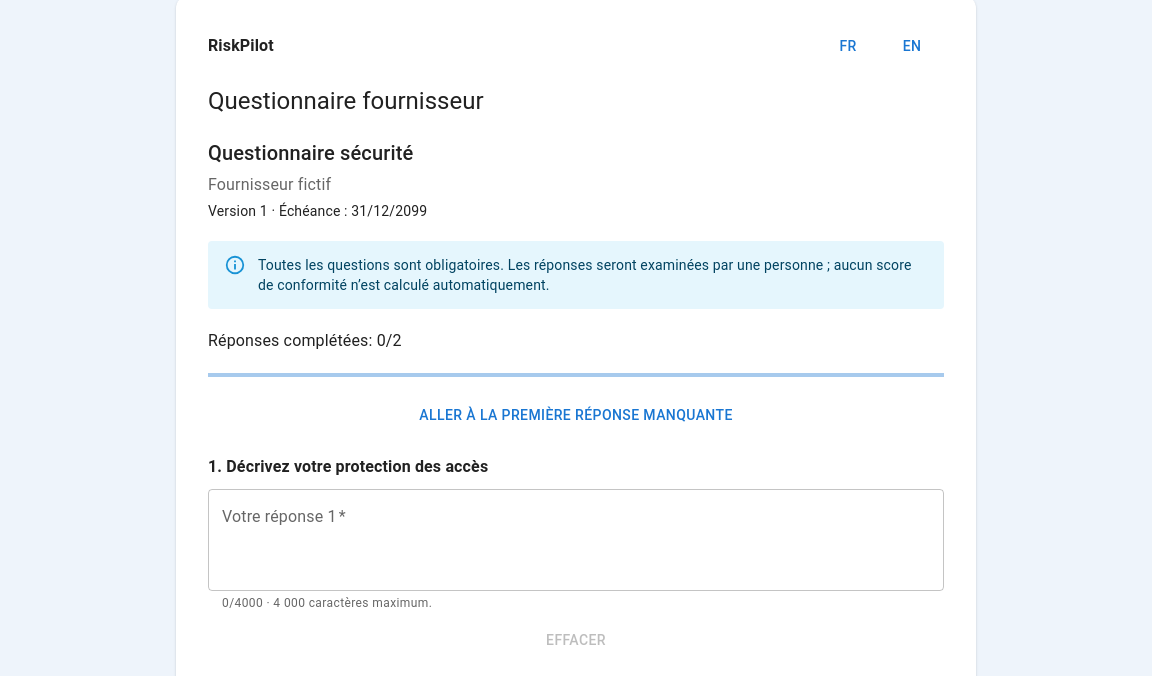
Test: PublicSupplierAssessmentPage › preserves entries after a failed submission and permits manual retry
Type "  Accès protégés par MFA.  " into the text box labelled "Votre réponse 1 *".
click(576, 540); type("  Accès protégés par MFA.  ")  # box x1=222 y1=506 x2=930 y2=575
(page scrolled)
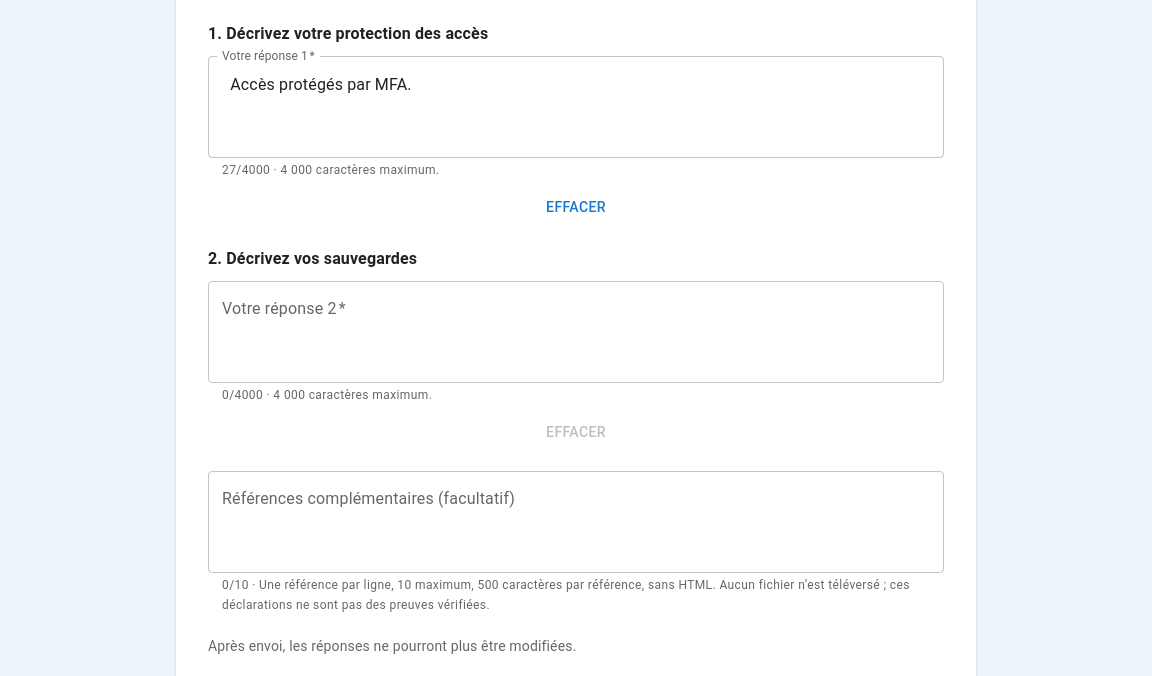
Type "Sauvegardes hors ligne." into the text box labelled "Votre réponse 2 *".
click(576, 332); type("Sauvegardes hors ligne.")  # box x1=222 y1=298 x2=930 y2=367
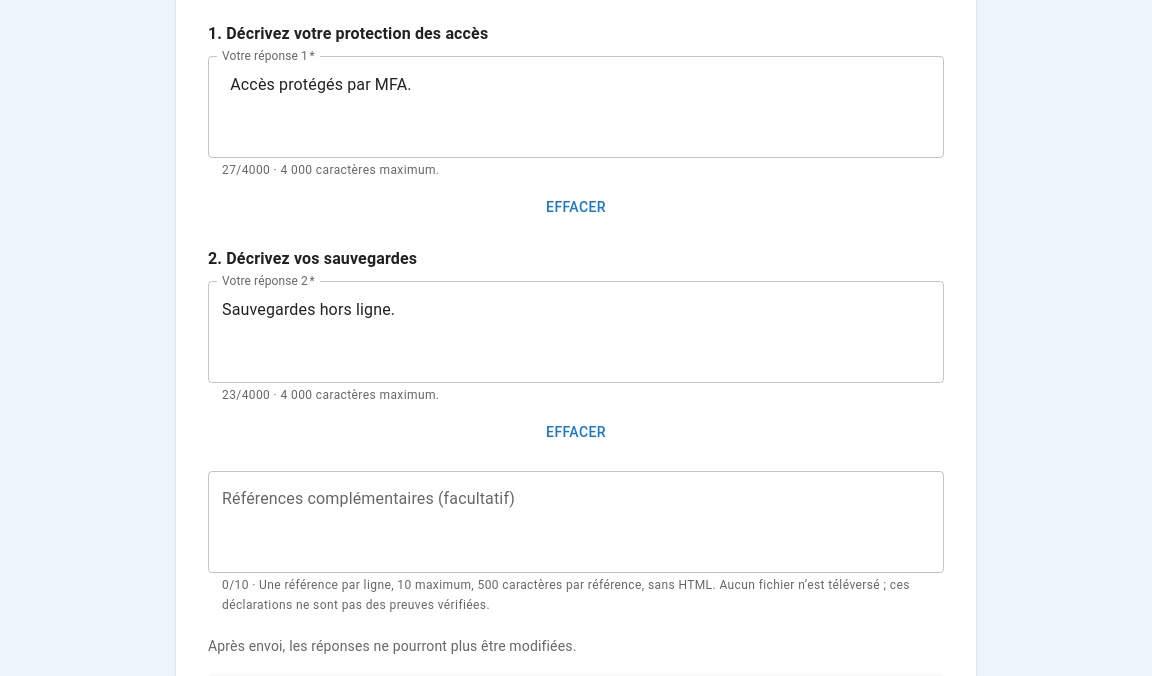
Type "Référence déclarative" into the text box labelled "Références complémentaires (facultatif)".
click(576, 522); type("Référence déclarative")  # box x1=222 y1=487 x2=930 y2=556
(page scrolled)
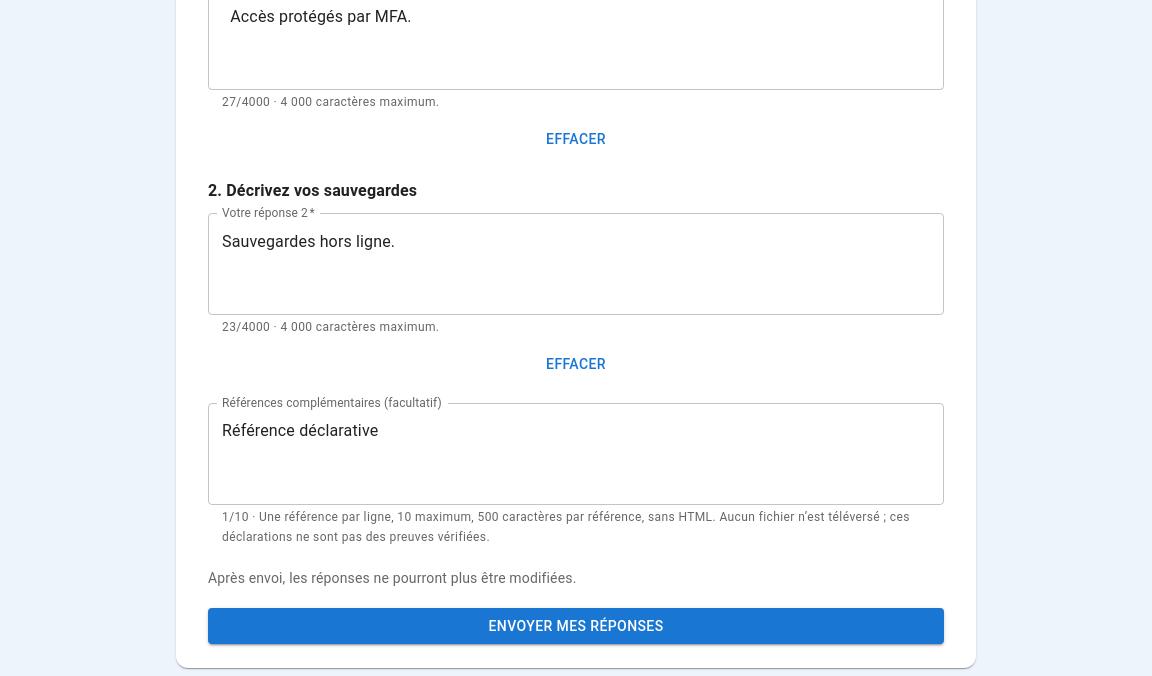
Click the button "Envoyer mes réponses".
click(576, 626)  # box x1=208 y1=608 x2=944 y2=644
(page scrolled)
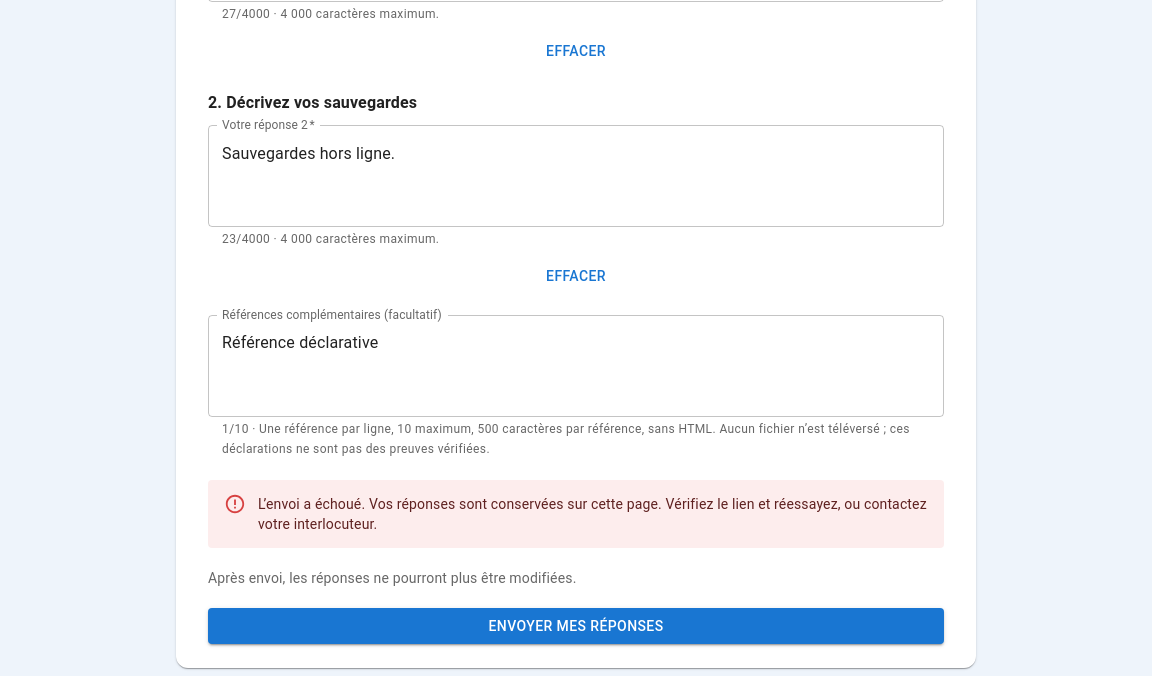
Check: the text "L’envoi a échoué" is shown, box x1=258 y1=496 x2=927 y2=532
Click the button "Envoyer mes réponses".
click(576, 626)  # box x1=208 y1=608 x2=944 y2=644
(page scrolled)
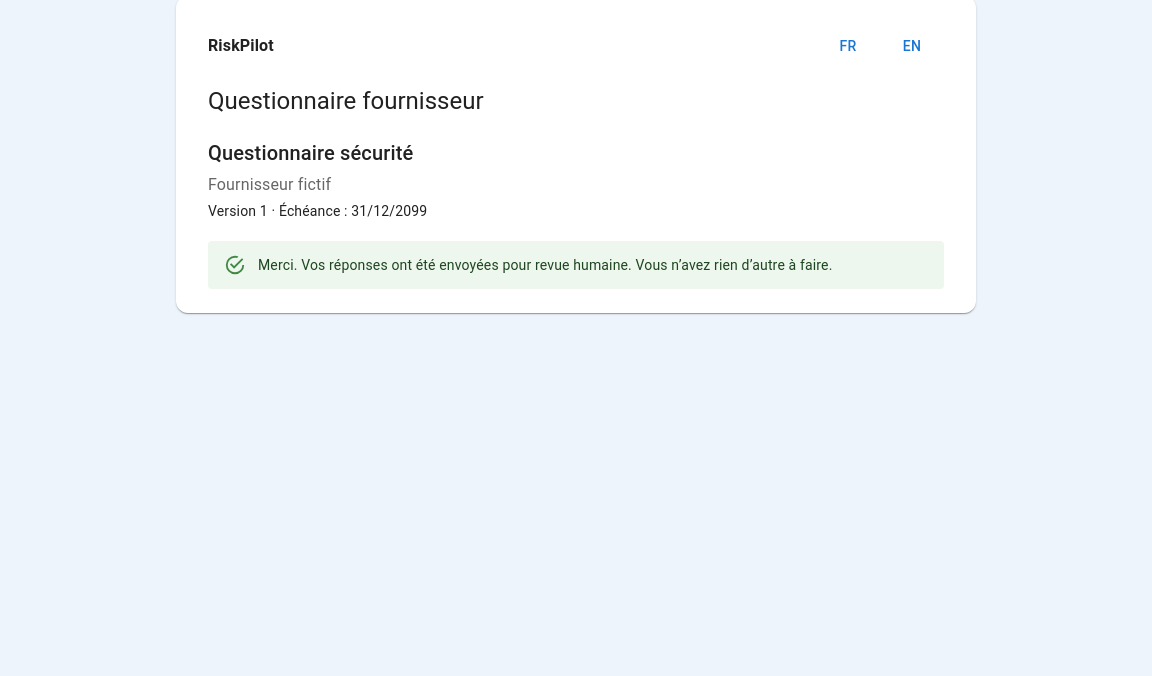
Check: the text "Merci. Vos réponses" is shown, box x1=258 y1=256 x2=832 y2=272
